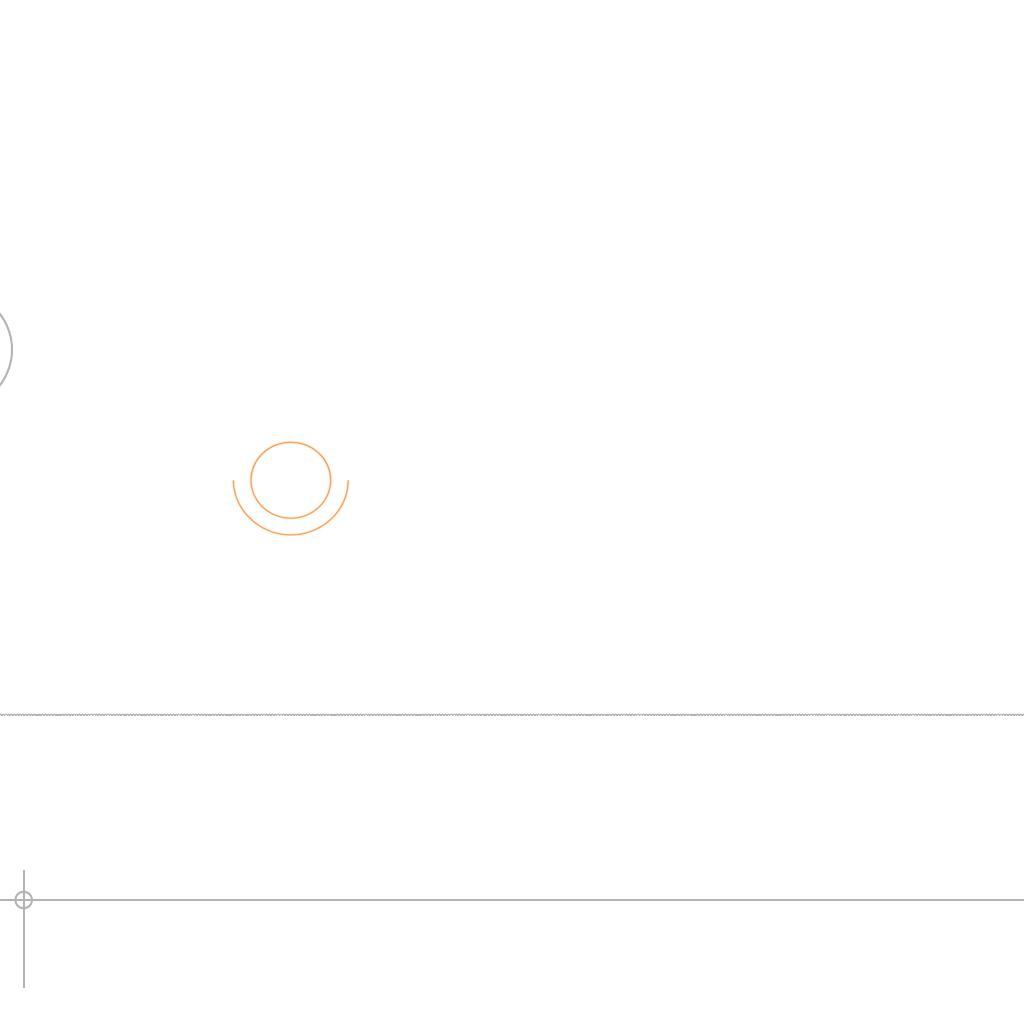Scheinwerfer_fuer_Alarmbeleuchtung: (228, 429, 360, 541)
